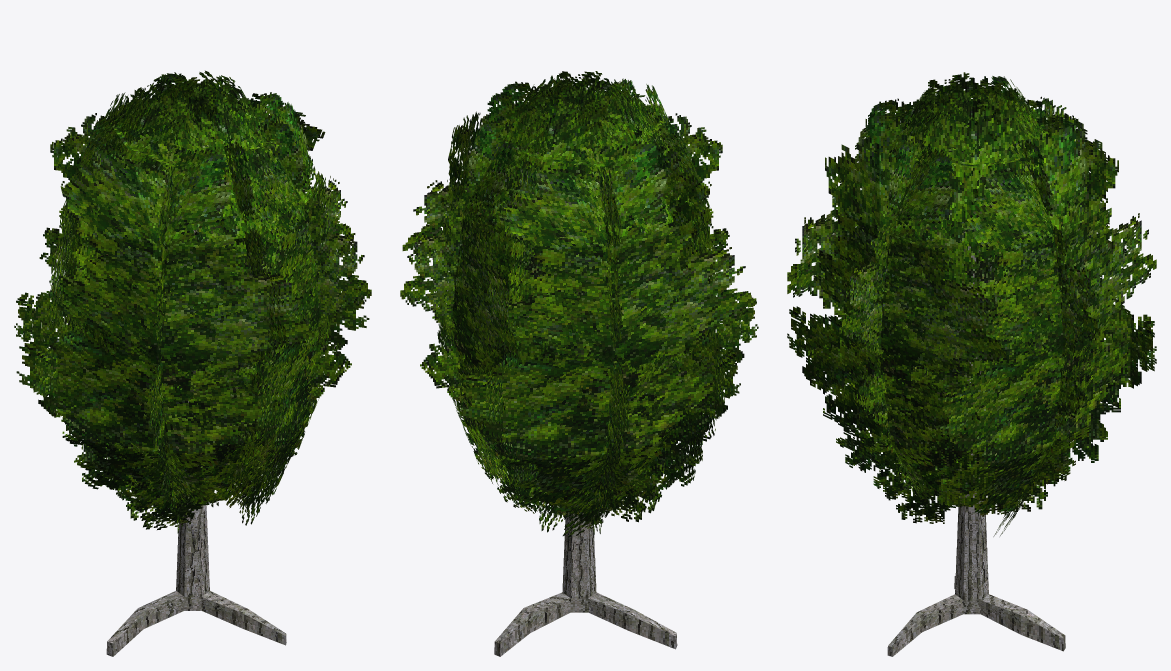
The model's file is tree02.glb.
3 renders of one model, left to right at view 1: azimuth 30°, elevation 25°; view 2: azimuth 150°, elevation 25°; view 3: azimuth 270°, elevation 25°, orthographic.
Parts seen in each view (by area): view 1: tree02_top, tree02; view 2: tree02_top, tree02; view 3: tree02_top, tree02.
Boxes of the visible parts, x1=… form: tree02_top: x1=14, y1=70, x2=371, y2=533; tree02: x1=106, y1=230, x2=286, y2=656; tree02_top: x1=400, y1=71, x2=758, y2=537; tree02: x1=494, y1=270, x2=677, y2=656; tree02_top: x1=787, y1=72, x2=1156, y2=536; tree02: x1=887, y1=231, x2=1065, y2=656.
Size of the model in its own units: 2.4 by 3.88 by 2.4.
1 material, 1 textured.
